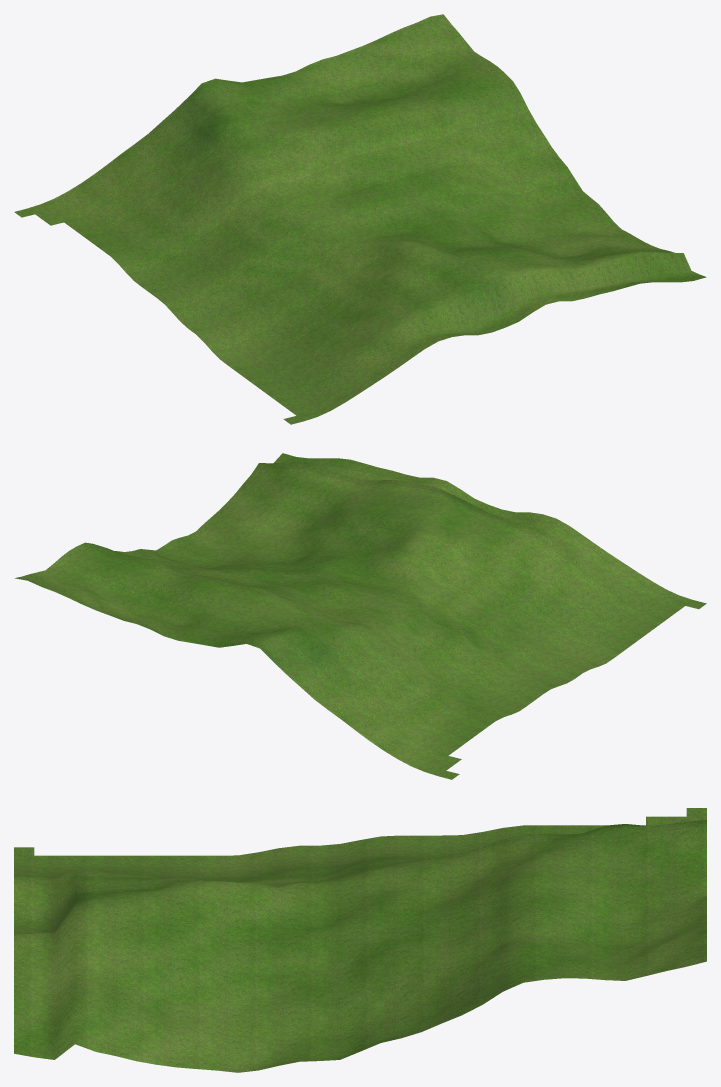
File: terrain-east.glb
3 renders of one model, top to bottom at view 1: azimuth 30°, elevation 25°; view 2: azimuth 150°, elevation 25°; view 3: azimuth 270°, elevation 25°, orthographic. The views are drawn at different scales.
Visible parts, largest first — view 1: terrain_east_mesh; view 2: terrain_east_mesh; view 3: terrain_east_mesh.
Part boxes in pixels (x1,y1,x2,y2): terrain_east_mesh: [14, 14, 706, 424]; terrain_east_mesh: [14, 453, 706, 779]; terrain_east_mesh: [14, 808, 706, 1072].
Size of the model in its own units: 128 by 33.31 by 136.
Materials: 1 (1 with a texture image).
